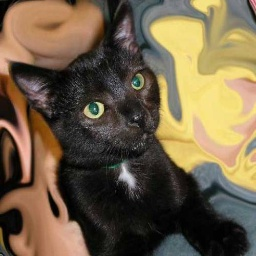cat: (13, 6, 247, 256)
